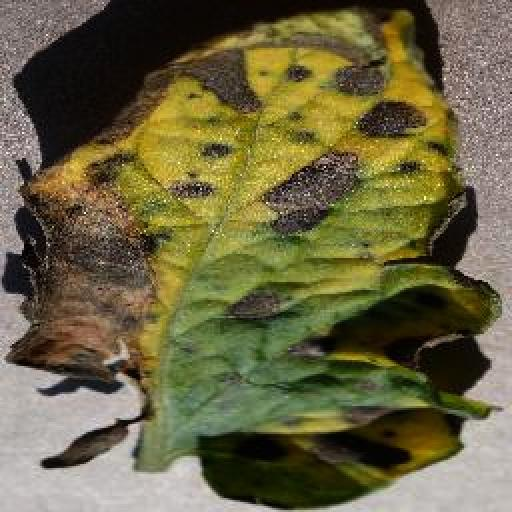disease_tomato: (8, 12, 498, 510)
